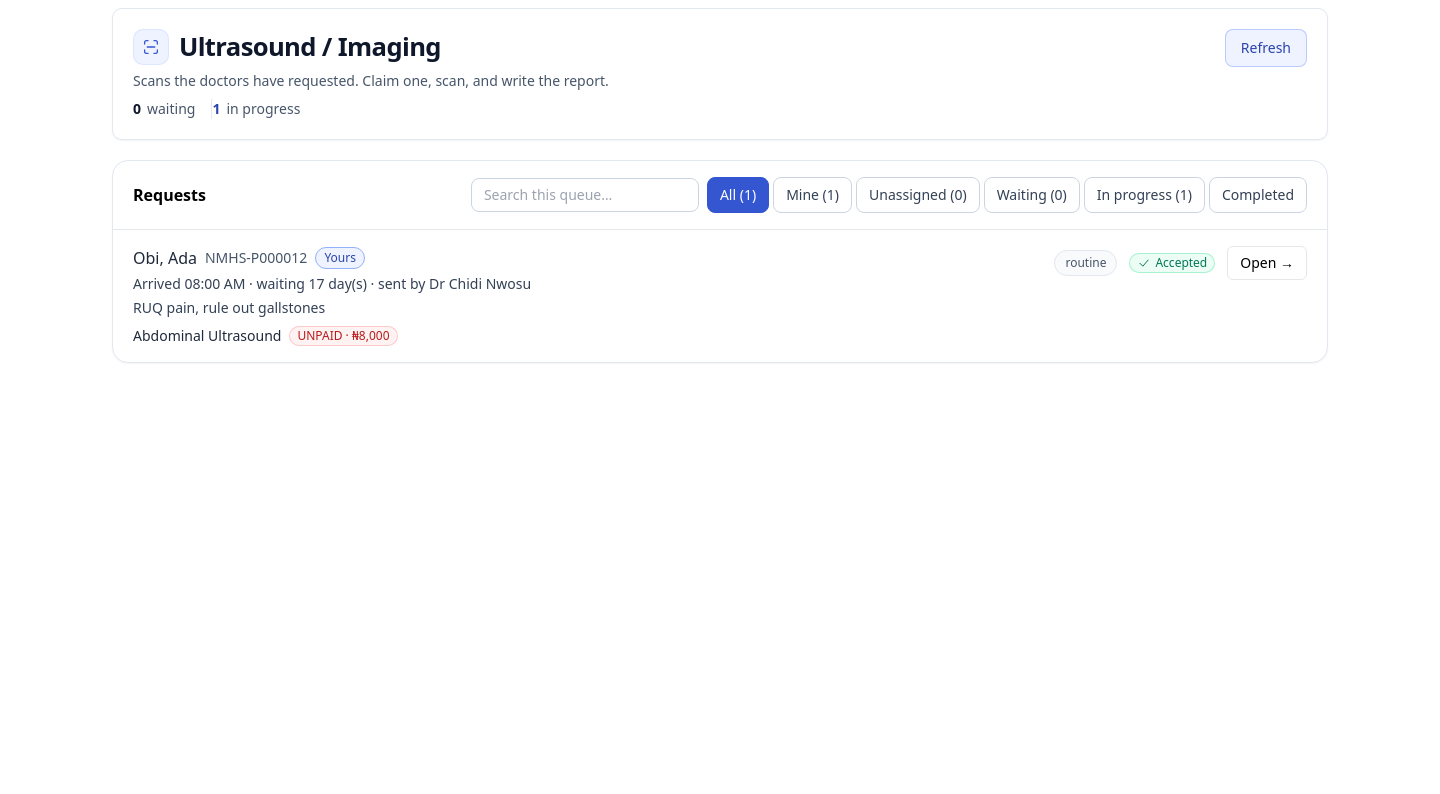
Test case: the imaging report the sonographer writes › asks for the sections the server defines, not one box of prose
The image size is (1440, 794).
Click the button "Open →" at (1267, 263), box [1227, 246, 1307, 280]
(page scrolled)
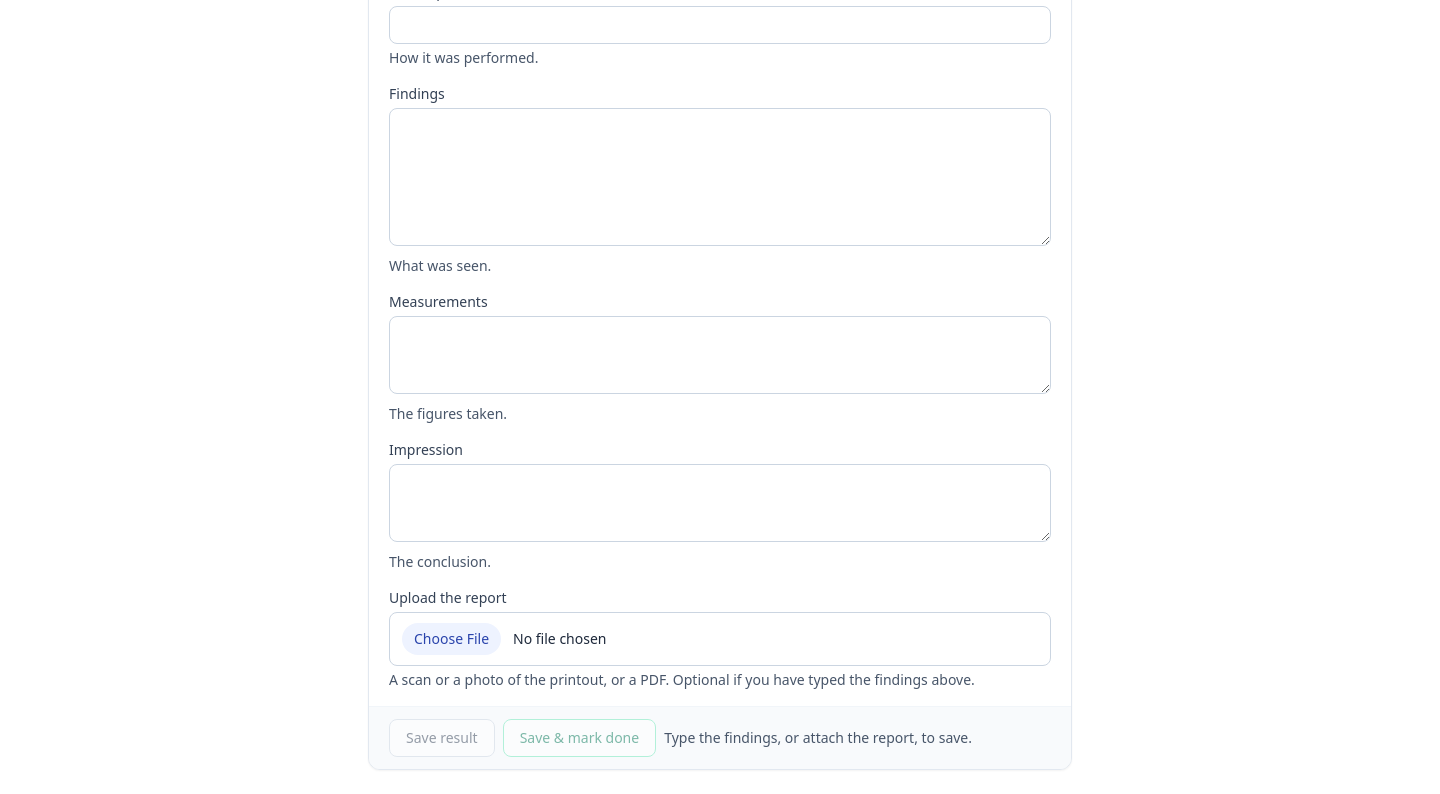
Now the field labelled "Technique" is shown, box [389, 6, 1051, 44]
Now the text box labelled "Findings" is shown, box [389, 108, 1051, 246]
Now the text box labelled "Measurements" is shown, box [389, 316, 1051, 394]
